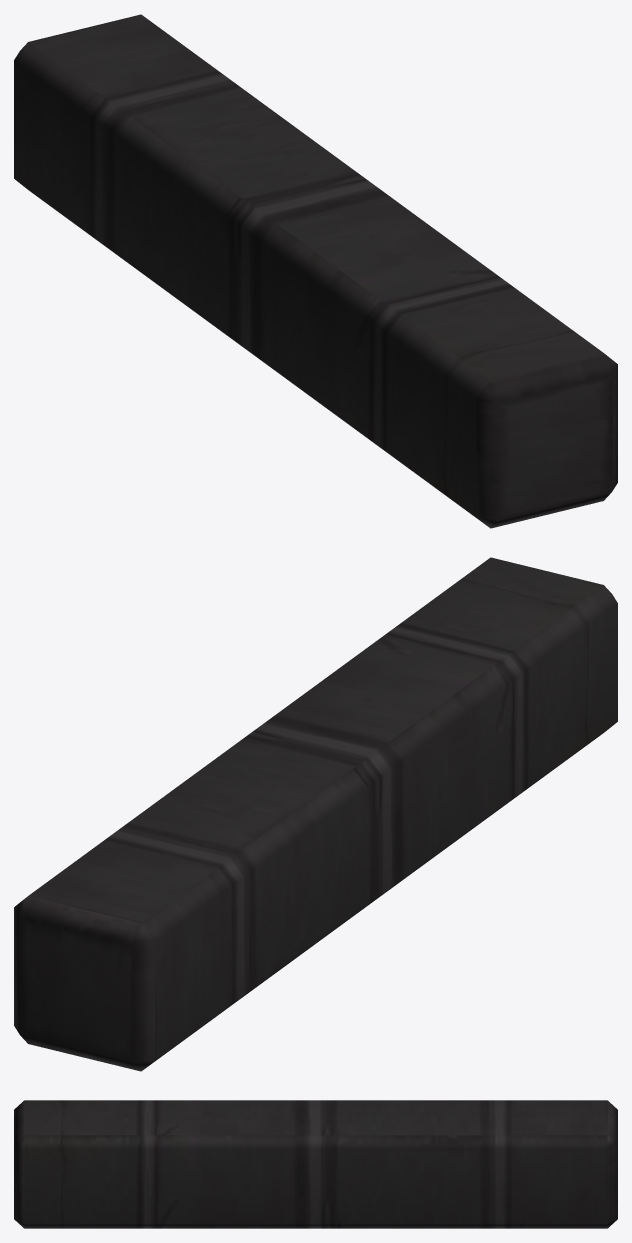
File: interior-embelisher01-art.glb
3 renders of one model, top to bottom at view 1: azimuth 30°, elevation 25°; view 2: azimuth 150°, elevation 25°; view 3: azimuth 270°, elevation 25°, orthographic. The views are drawn at different scales.
Visible parts, largest first — view 1: InteriorEmbelisher01_Art; view 2: InteriorEmbelisher01_Art; view 3: InteriorEmbelisher01_Art.
Part boxes in pixels (x1,y1,x2,y2): InteriorEmbelisher01_Art: (14,14,617,528); InteriorEmbelisher01_Art: (14,557,617,1071); InteriorEmbelisher01_Art: (14,1100,617,1228).
Size of the model in its own units: 1 by 1 by 5.86.
Materials: 1 (1 with a texture image).
